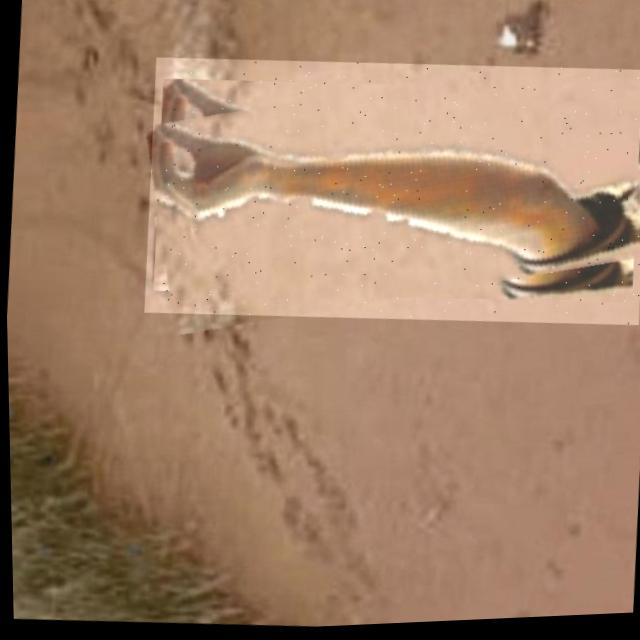Person in Rubble: (137, 41, 640, 347)
